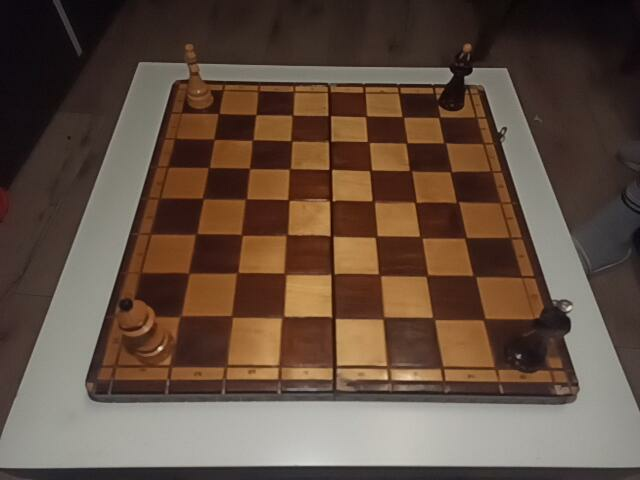B-Bishop: (438, 43, 475, 110)
B-Knight: (505, 306, 572, 373)
W-Bishop: (114, 299, 174, 362)
W-Knight: (182, 44, 214, 109)
